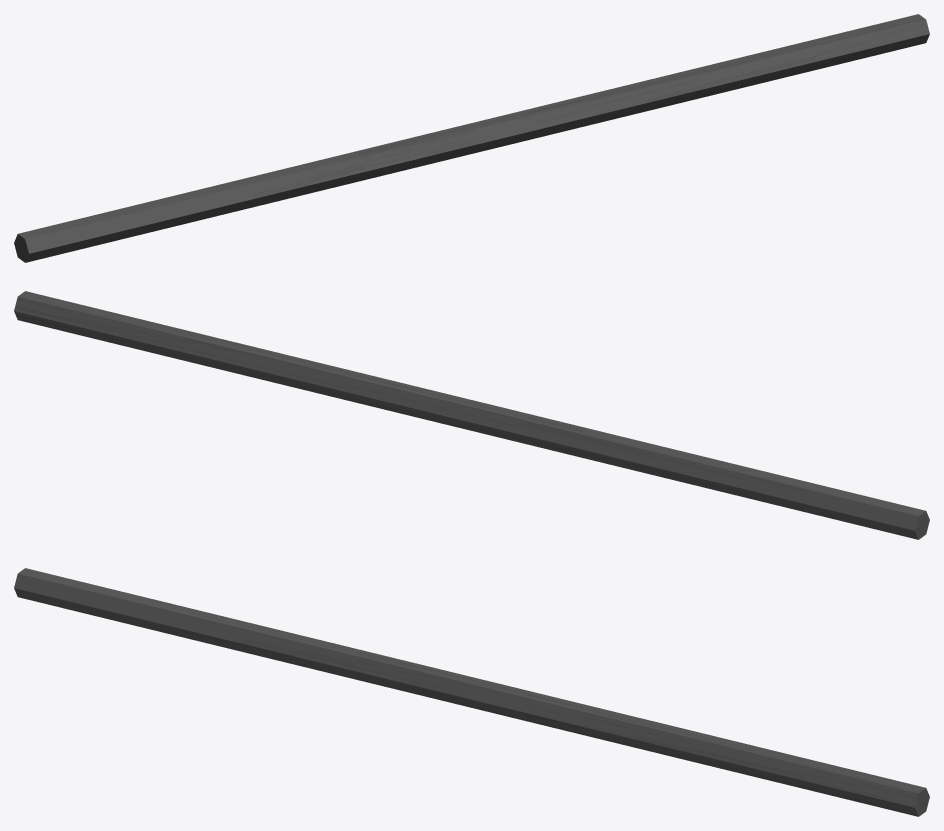
File: antenna.obj
3 renders of one model, top to bottom at view 1: azimuth 30°, elevation 25°; view 2: azimuth 150°, elevation 25°; view 3: azimuth 330°, elevation 25°, orthographic.
Visible parts, largest first — view 1: 円柱; view 2: 円柱; view 3: 円柱.
Part boxes in pixels (x1,y1,x2,y2): 円柱: [14, 14, 929, 262]; 円柱: [14, 291, 929, 539]; 円柱: [14, 568, 929, 816].
Bounding box in the file's own units: 0.9943 × 0.0249 × 0.0287.
